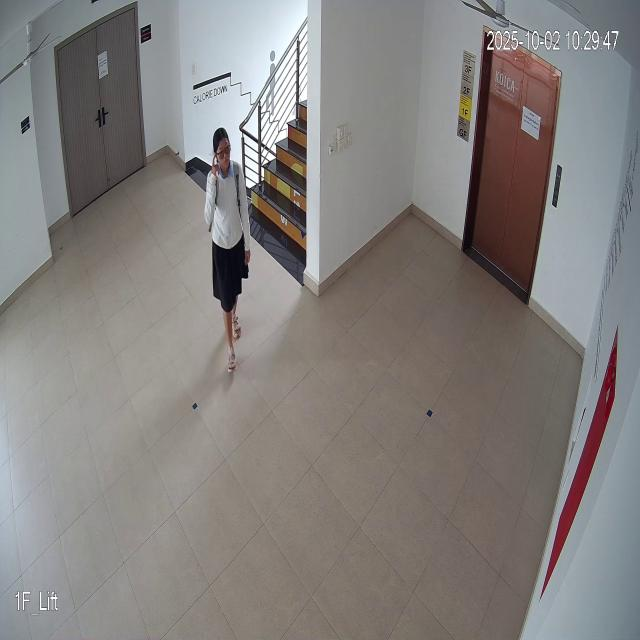face: (211, 128, 236, 180)
